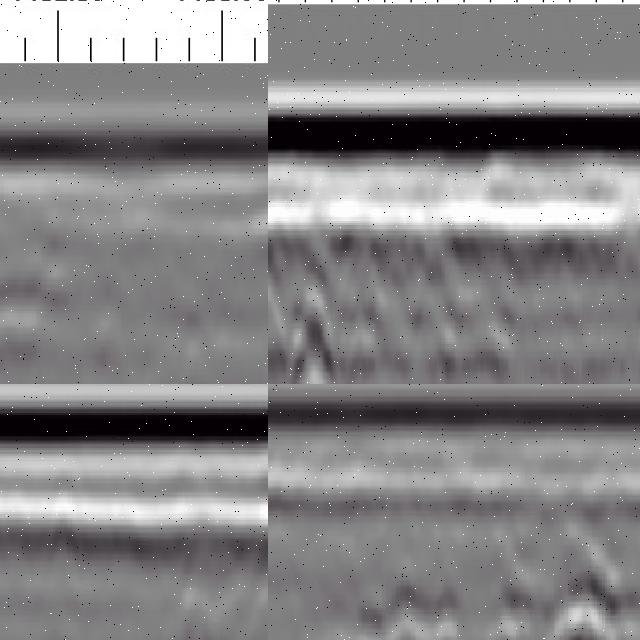loose: (359, 555, 640, 640), (269, 247, 354, 385)
